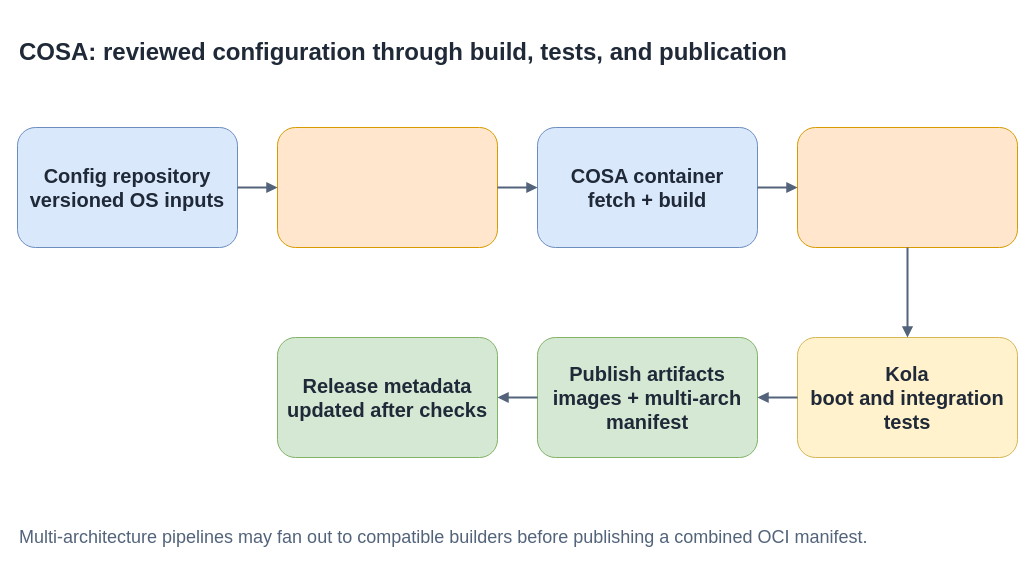
Some shapes in this 1035 by 584 pixel diagram are drawn without their labels. Here are the shapes that lost their labels. From the top down, the centre of each, then its label:
(x=387, y=187): CI pipeline reviewed revision
(x=907, y=187): OSBuild platform images
